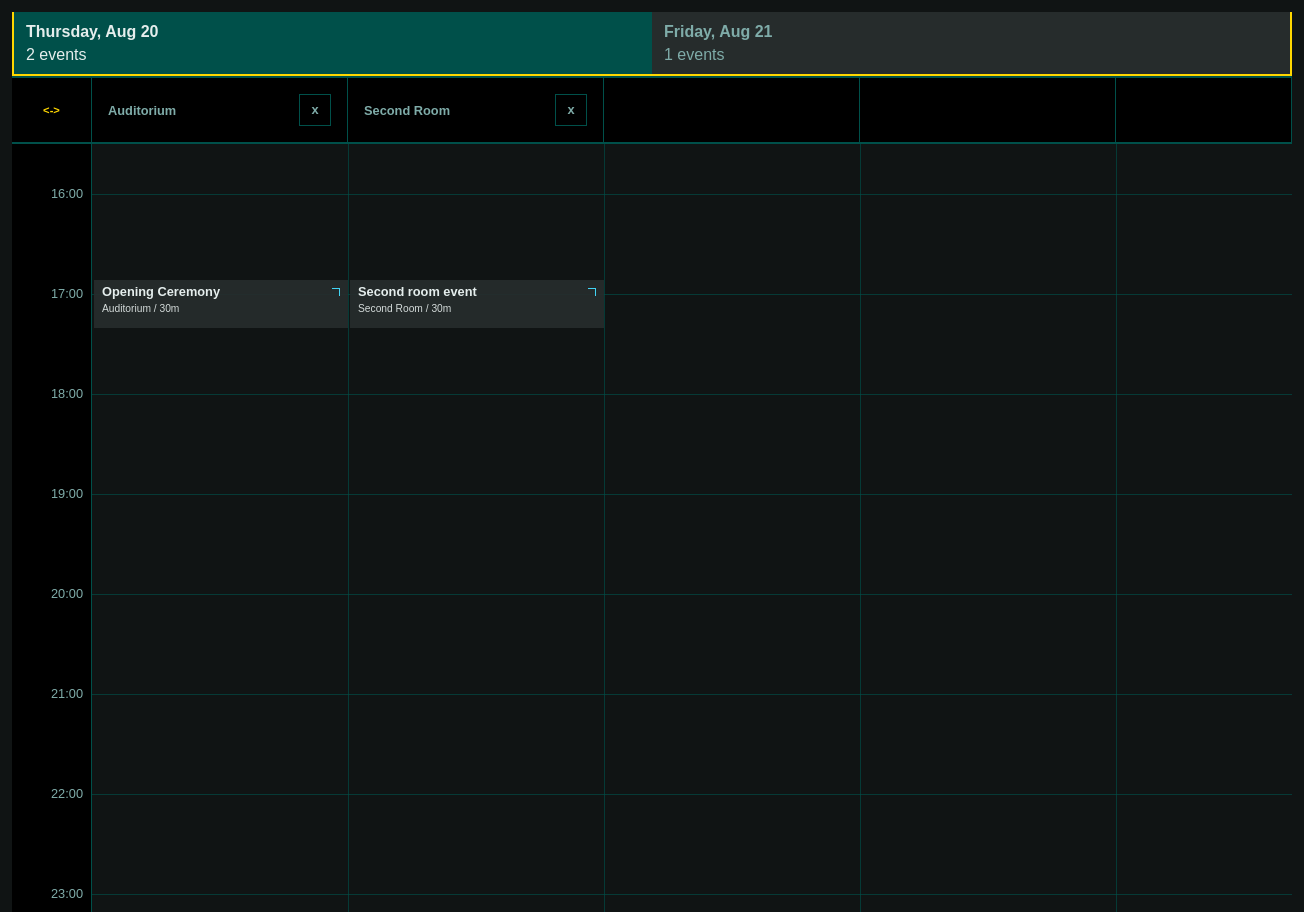
Components / CalendarView › should hide a room, list it as hidden, and show it again
Click the button named "Hide Second Room": (571, 110) [555,94,587,126]
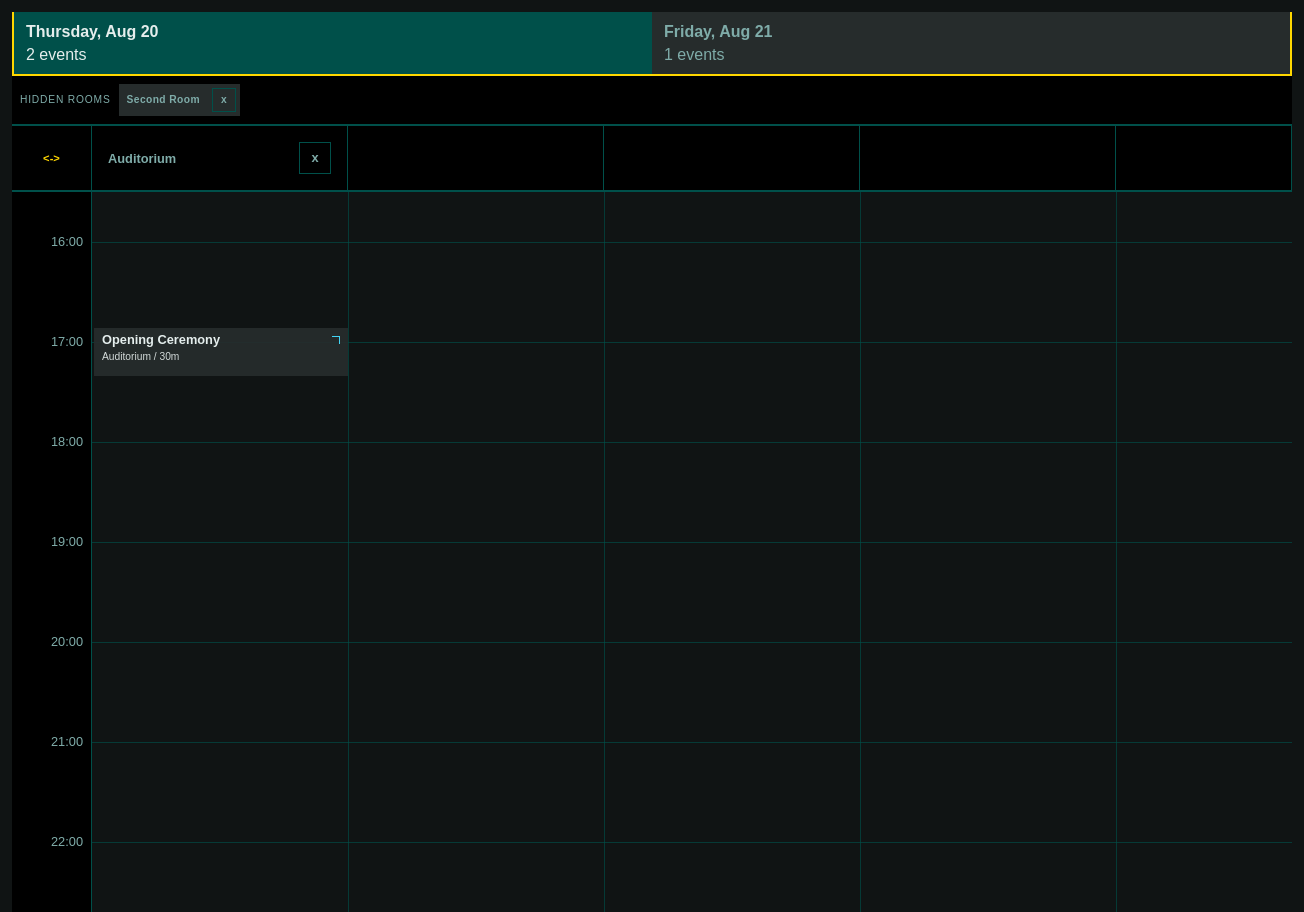
Expected: the link with aria-label "16:50 Opening Ceremony Auditorium / 30m" is shown, [94,328,348,376]
Click the button named "Show Second Room": (224, 100) [212,88,236,112]
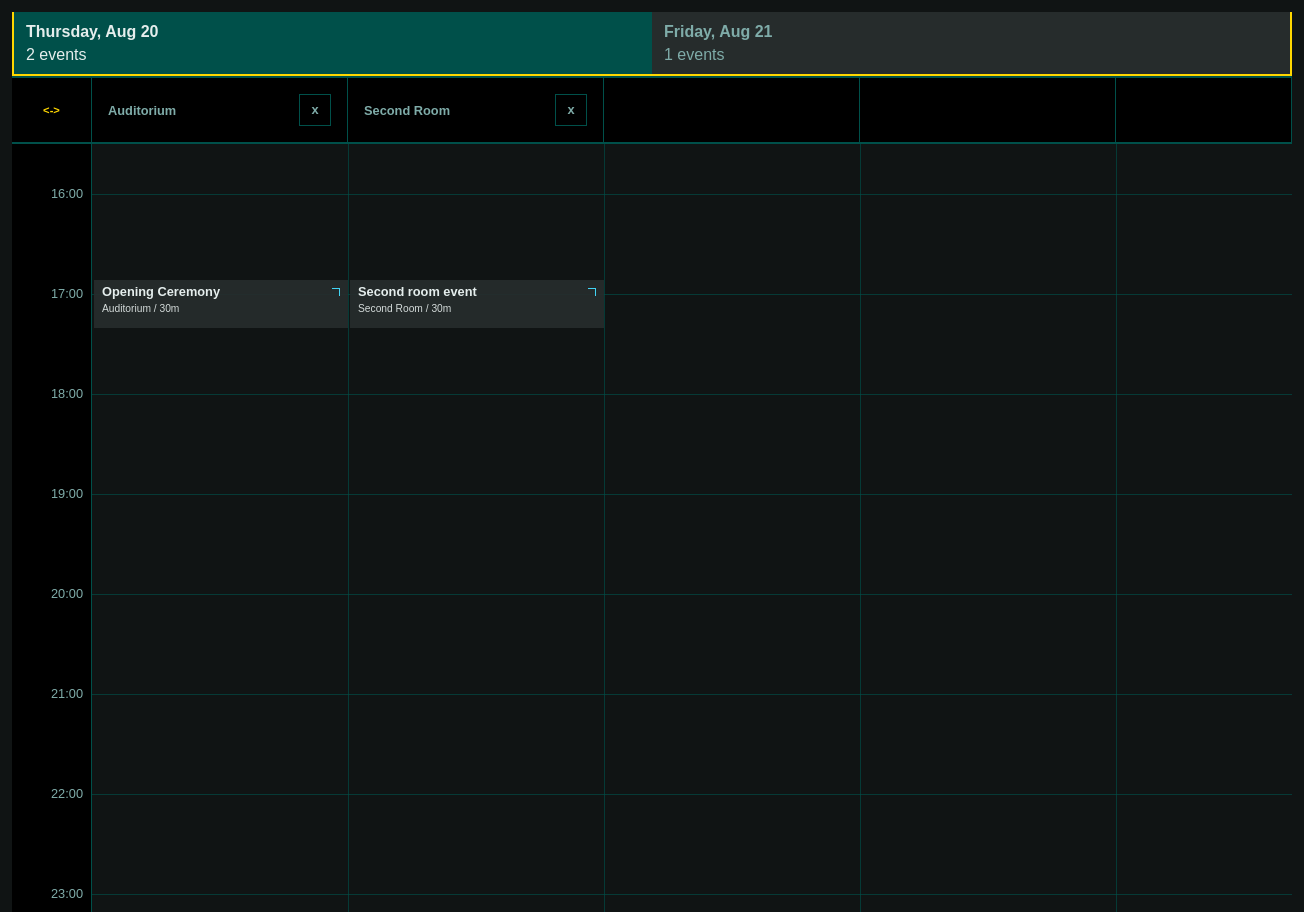
Now the link with aria-label "16:50 Second room event Second Room / 30m" is shown, box [350,280,604,328]
